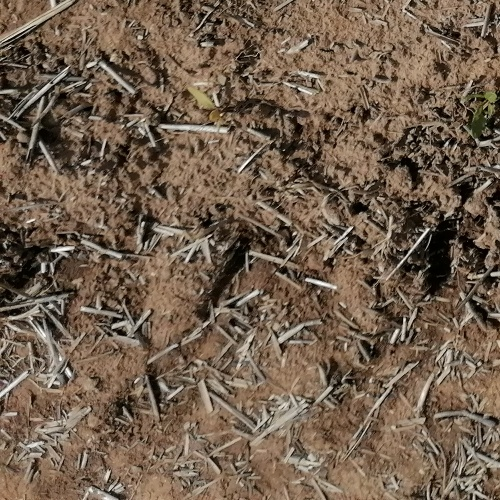beet: (471, 90, 500, 136)
